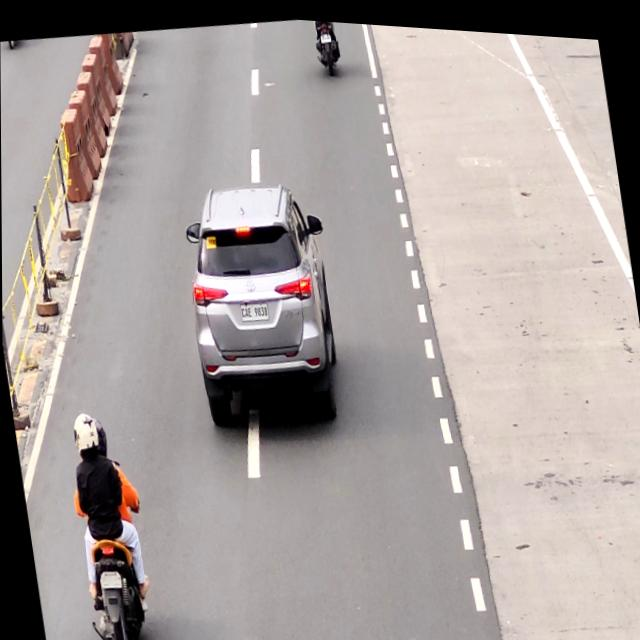Car: (174, 172, 350, 428)
License-Plate: (237, 294, 271, 324)
Motorcycle: (56, 401, 159, 640), (312, 16, 343, 74)
